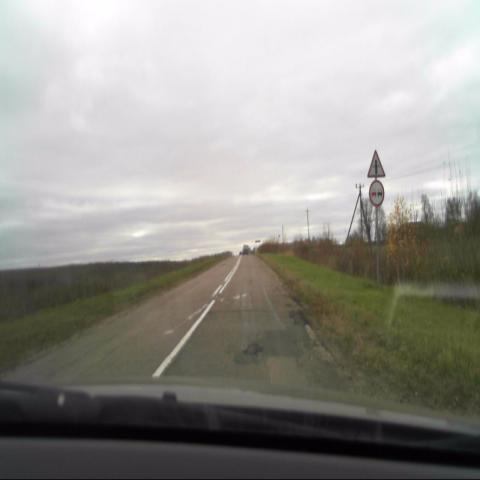2_3: (366, 149, 386, 177)
3_20: (368, 180, 385, 207)
